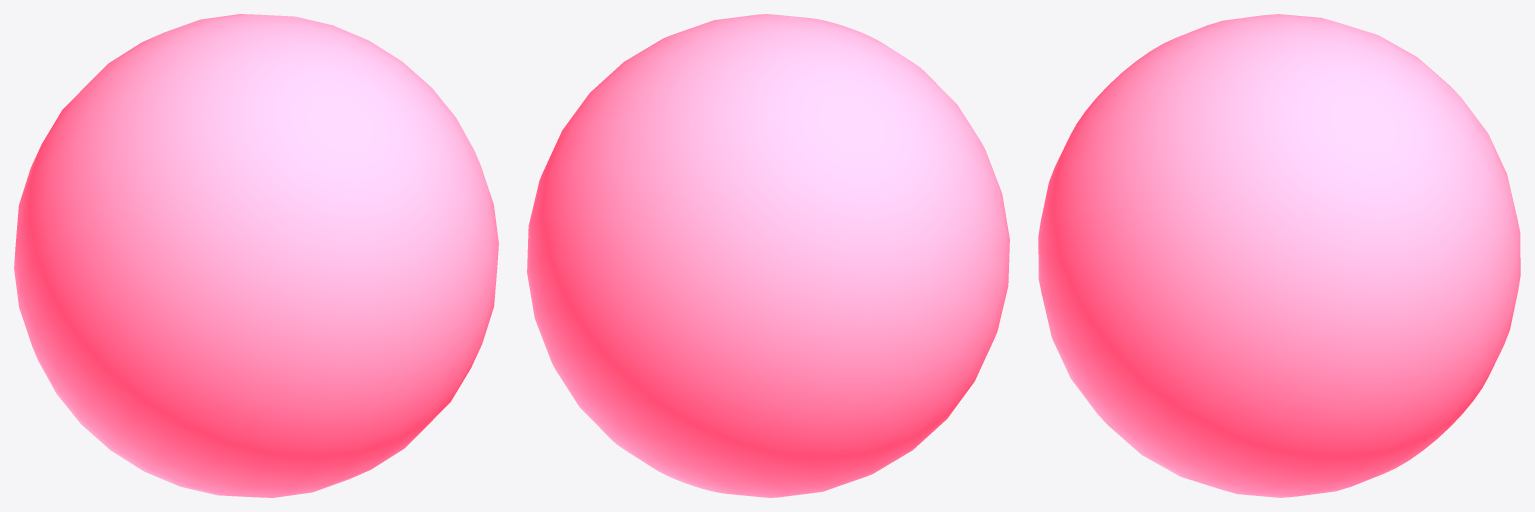
Rendered from Core2.glb.
3 views of the same model, side by side, from view 1: azimuth 30°, elevation 25°; view 2: azimuth 150°, elevation 25°; view 3: azimuth 270°, elevation 25° (orthographic).
Parts seen in each view (by area): view 1: Sphere.002; view 2: Sphere.002; view 3: Sphere.002.
Boxes of the visible parts, bbox=[...] form: Sphere.002: bbox=[14, 14, 498, 497]; Sphere.002: bbox=[527, 14, 1009, 497]; Sphere.002: bbox=[1038, 14, 1520, 497].
Size of the model in its own units: 13.2 by 13.15 by 13.15.
